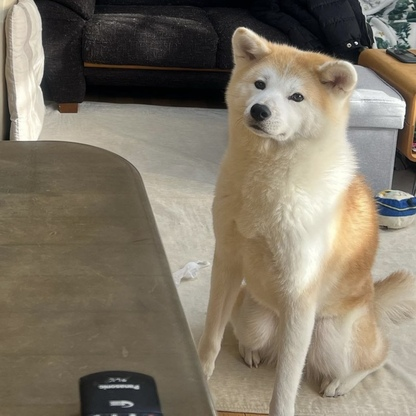akita: (192, 19, 414, 416)
